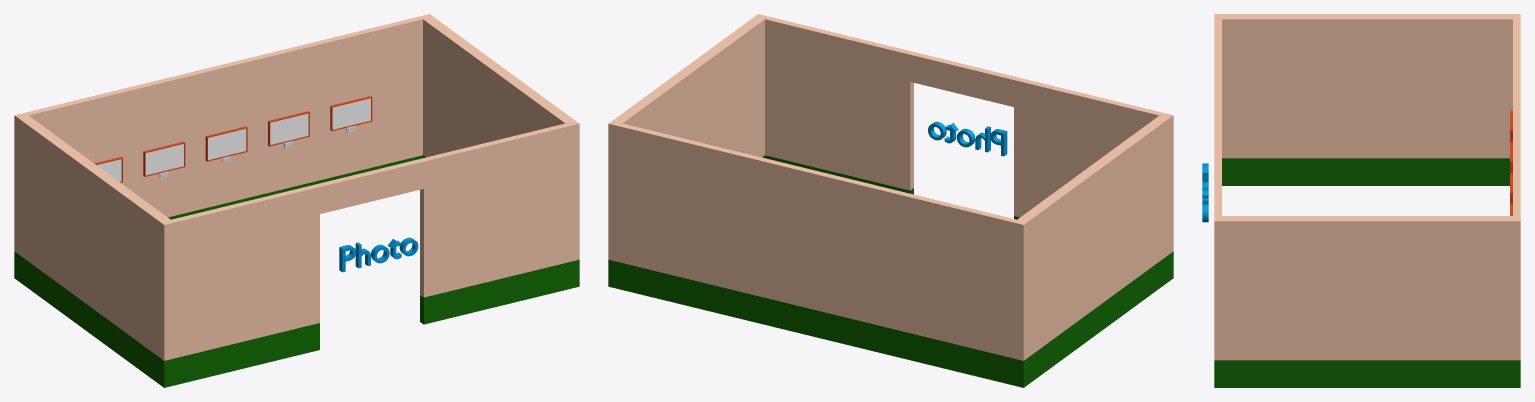
3 views of the same model, side by side, from view 1: azimuth 30°, elevation 25°; view 2: azimuth 150°, elevation 25°; view 3: azimuth 270°, elevation 25° (orthographic). The views are drawn at different scales.
Parts seen in each view (by area): view 1: Wall, Text, Frame.004, Frame, Frame.001, Frame.003; view 2: Wall, Text; view 3: Wall, Text.
Boxes of the visible parts, x1=… form: Wall: x1=14, y1=14, x2=579, y2=387; Text: x1=339, y1=237, x2=418, y2=272; Frame.004: x1=330, y1=96, x2=372, y2=132; Frame: x1=205, y1=126, x2=247, y2=163; Frame.001: x1=143, y1=141, x2=185, y2=178; Frame.003: x1=268, y1=111, x2=309, y2=147; Wall: x1=608, y1=14, x2=1173, y2=387; Text: x1=928, y1=121, x2=1007, y2=156; Wall: x1=1214, y1=14, x2=1520, y2=387; Text: x1=1202, y1=163, x2=1208, y2=222.
Size of what is drawn, in the model's own units: 8 by 3 by 5.19.
